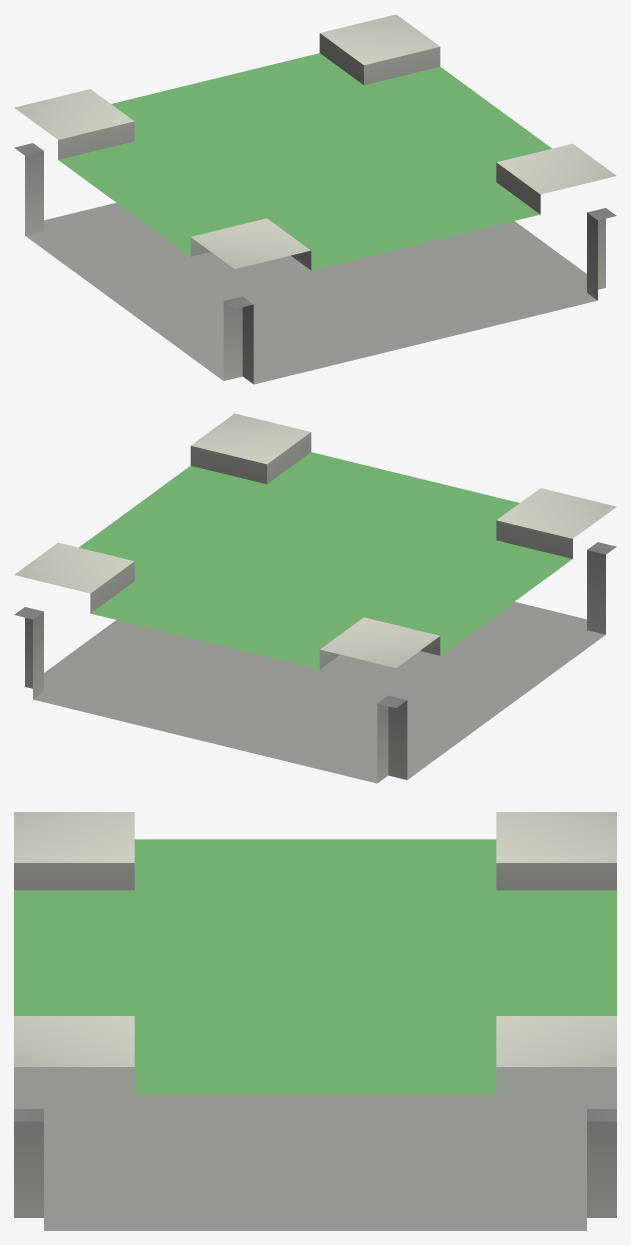
The model's file is Planter_4way_Medium_01.fbx.
3 renders of one model, top to bottom at view 1: azimuth 30°, elevation 25°; view 2: azimuth 150°, elevation 25°; view 3: azimuth 270°, elevation 25°, orthographic. The views are drawn at different scales.
Visible parts, largest first — view 1: Planter_4way_Medium_01; view 2: Planter_4way_Medium_01; view 3: Planter_4way_Medium_01.
Part boxes in pixels (x1=…): Planter_4way_Medium_01: x1=14, y1=14, x2=616, y2=384; Planter_4way_Medium_01: x1=14, y1=413, x2=616, y2=783; Planter_4way_Medium_01: x1=14, y1=812, x2=616, y2=1230.
Bounding box in the file's own units: 200 × 60 × 200.
